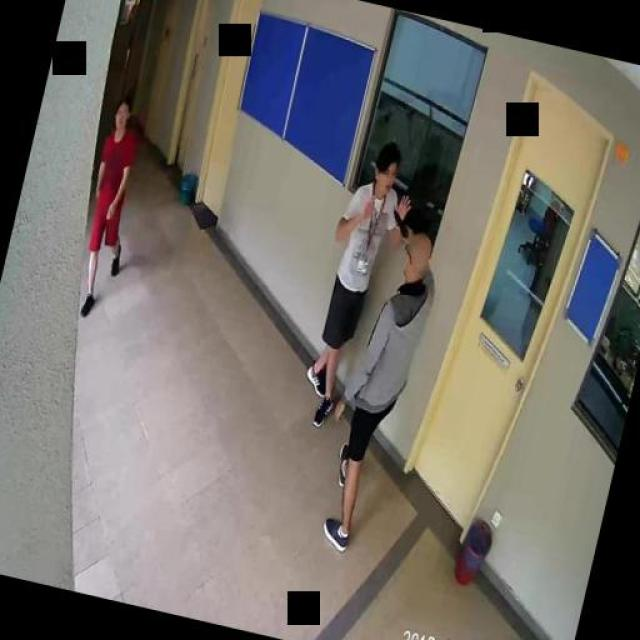gun: (385, 208, 413, 238)
